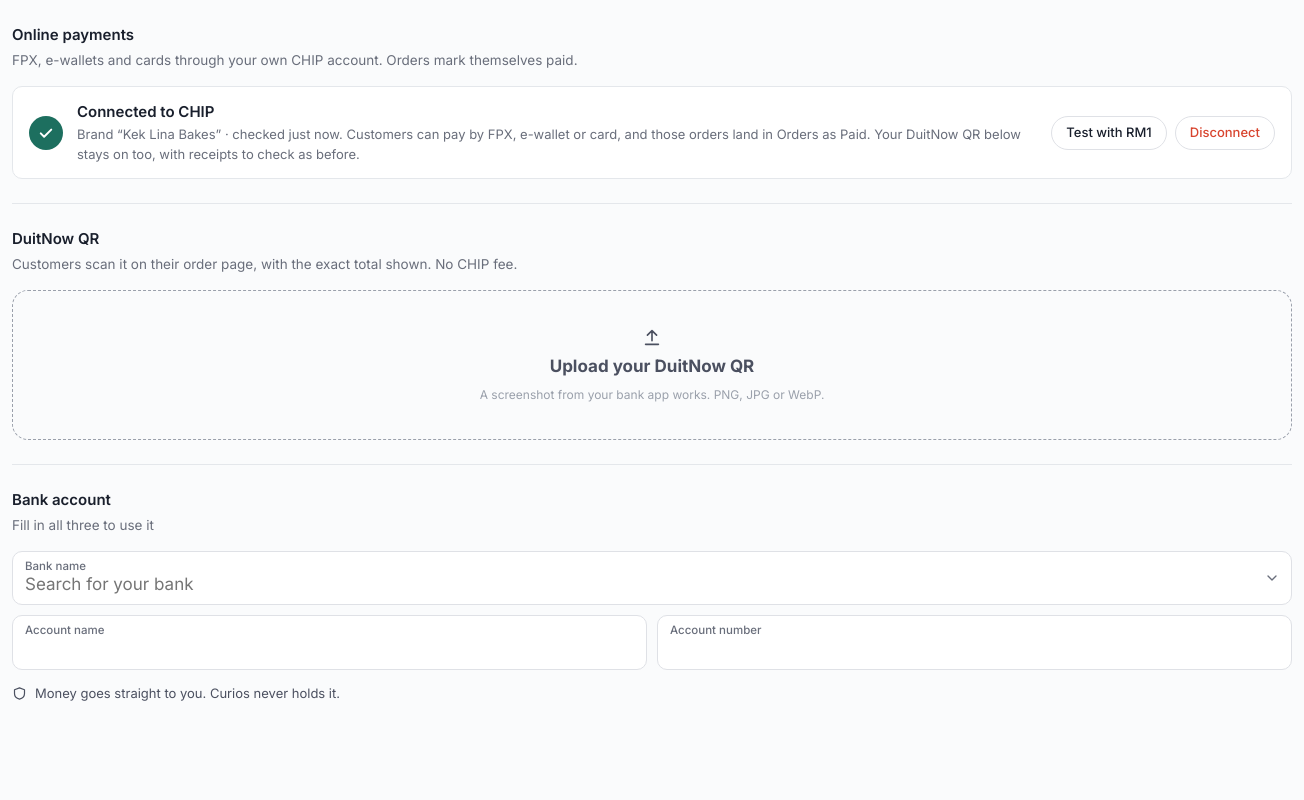
it: PaymentTab, online payments › keeps the connection, with the reason, when disconnecting is refused
Click the button "Disconnect" at (1225, 132), box 1175,116 -> 1275,150
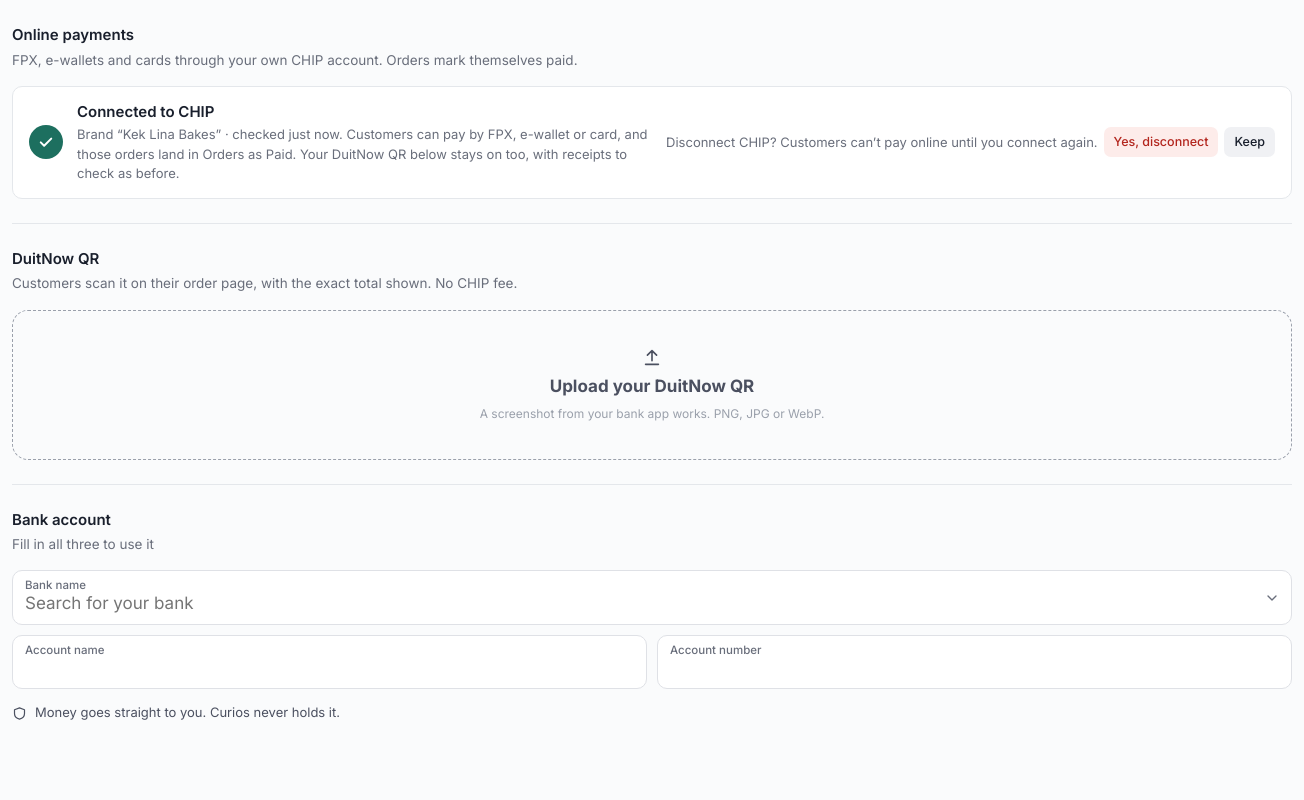
Click the button "Yes, disconnect" at (1161, 142), box 1104,127 -> 1218,157
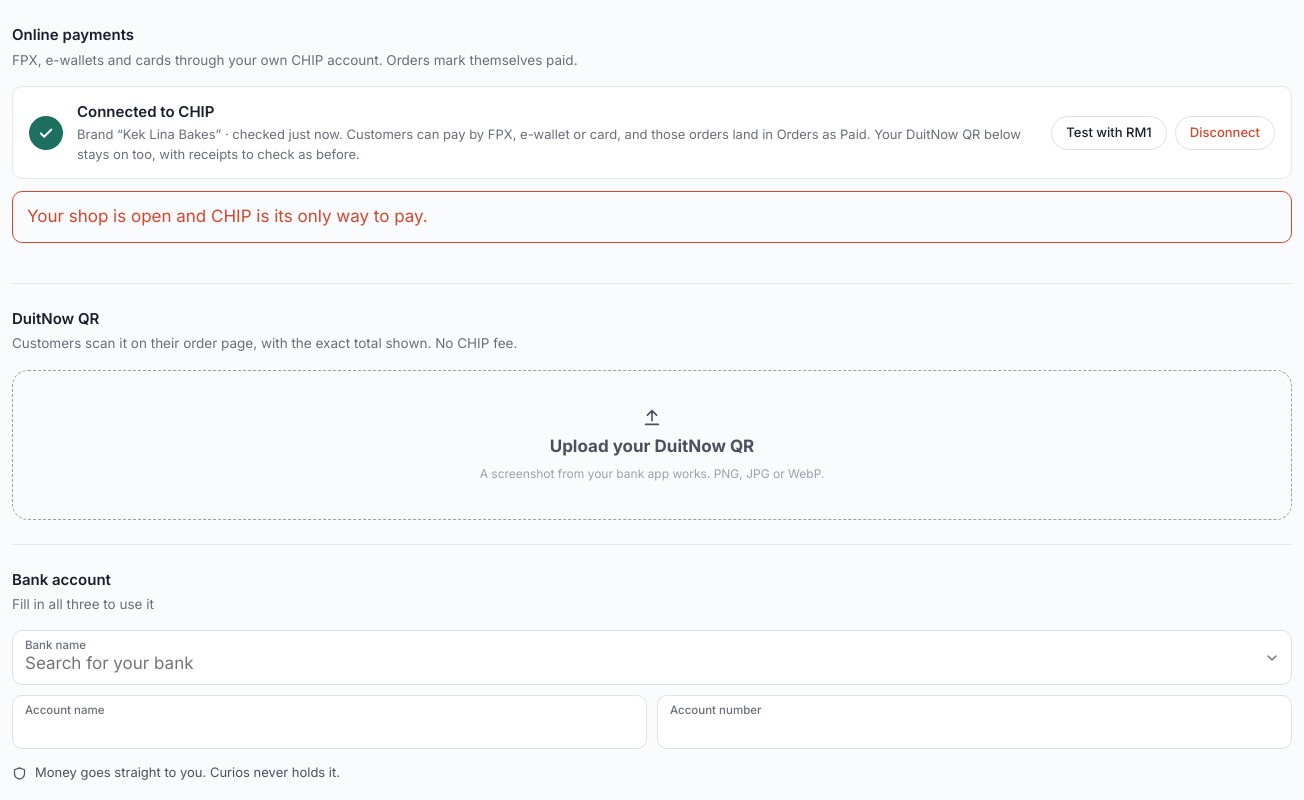
Expected: the message shows "CHIP is its only way to pay.", 27,206 -> 428,226
